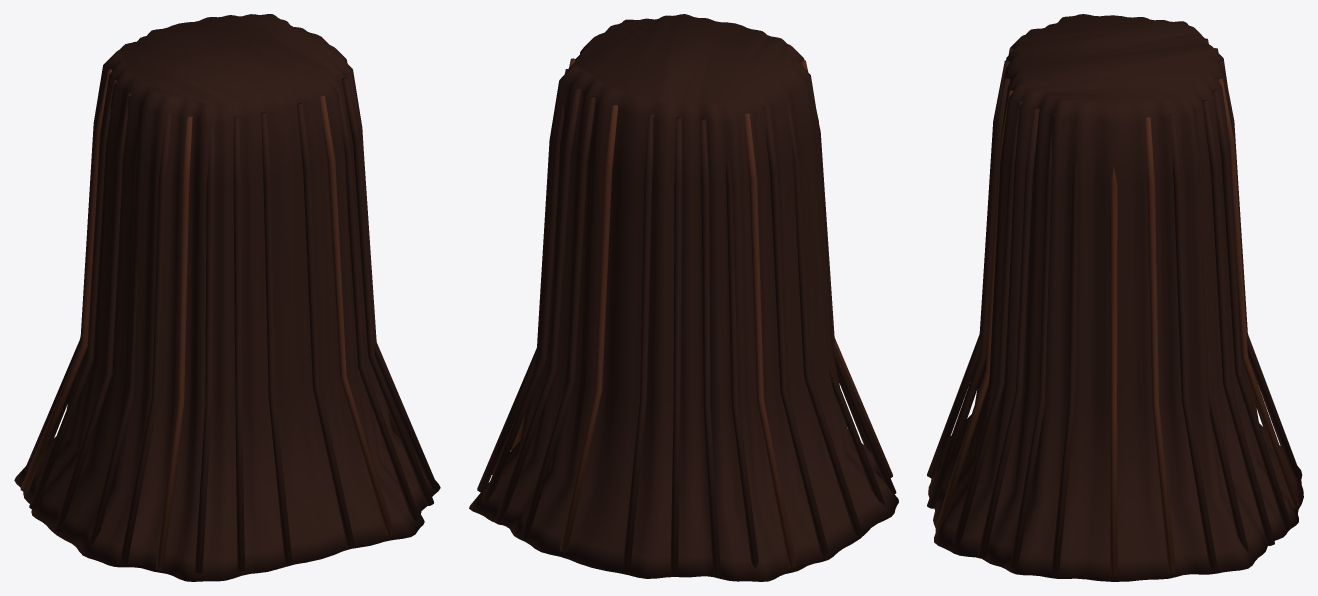
The model's file is cacao-tower.glb.
3 renders of one model, left to right at view 1: azimuth 30°, elevation 25°; view 2: azimuth 150°, elevation 25°; view 3: azimuth 270°, elevation 25°, orthographic.
Visible parts, largest first — view 1: Tall fluted chocolate tower, Tall chocolate drip.010, Tall chocolate drip.011, Tall chocolate drip.006, Tall chocolate drip.008, Tall chocolate drip.005, Tall chocolate drip.007, Tall chocolate drip.003, Tall chocolate drip.009, Tall chocolate drip.004, Tall chocolate drip.013, Tall chocolate drip.014 (+3 smaller); view 2: Tall fluted chocolate tower, Tall chocolate drip.015, Tall chocolate drip.017, Tall chocolate drip.020, Tall chocolate drip.021, Tall chocolate drip.014, Tall chocolate drip.022, Tall chocolate drip.018, Tall chocolate drip.019, Tall chocolate drip.013, Tall chocolate drip.023, Tall chocolate drip.016 (+4 smaller); view 3: Tall fluted chocolate tower, Tall chocolate drip.003, Tall chocolate drip.025, Tall chocolate drip.022, Tall chocolate drip.021, Tall chocolate drip.024, Tall chocolate drip.006, Tall chocolate drip, Tall chocolate drip.004, Tall chocolate drip.001, Tall chocolate drip.002, Tall chocolate drip.020 (+4 smaller).
Part boxes in pixels (x1,y1,x2,y2): Tall fluted chocolate tower: (14, 14, 440, 581); Tall chocolate drip.010: (155, 116, 192, 570); Tall chocolate drip.011: (119, 112, 171, 563); Tall chocolate drip.006: (297, 103, 355, 548); Tall chocolate drip.008: (233, 116, 244, 570); Tall chocolate drip.005: (319, 95, 393, 535); Tall chocolate drip.007: (261, 112, 292, 563); Tall chocolate drip.003: (342, 77, 433, 505); Tall chocolate drip.009: (195, 118, 214, 573); Tall chocolate drip.004: (336, 87, 419, 521); Tall chocolate drip.013: (54, 92, 131, 531); Tall chocolate drip.014: (29, 79, 116, 509); Tall fluted chocolate tower: (469, 14, 898, 581); Tall chocolate drip.015: (744, 113, 796, 567); Tall chocolate drip.017: (700, 118, 720, 576); Tall chocolate drip.020: (559, 104, 618, 552); Tall chocolate drip.021: (520, 96, 595, 539); Tall chocolate drip.014: (762, 106, 828, 555); Tall chocolate drip.022: (494, 88, 581, 524); Tall chocolate drip.018: (670, 117, 681, 574); Tall chocolate drip.019: (623, 113, 654, 567); Tall chocolate drip.013: (784, 94, 862, 535); Tall chocolate drip.023: (481, 104, 563, 503); Tall chocolate drip.016: (726, 160, 758, 568); Tall fluted chocolate tower: (928, 14, 1303, 581); Tall chocolate drip.003: (977, 107, 1039, 558); Tall chocolate drip.025: (1145, 116, 1176, 573); Tall chocolate drip.022: (1202, 100, 1274, 545); Tall chocolate drip.021: (1212, 90, 1291, 529); Tall chocolate drip.024: (1169, 113, 1217, 568); Tall chocolate drip.006: (927, 78, 1010, 508); Tall chocolate drip: (1110, 166, 1117, 575); Tall chocolate drip.004: (952, 100, 1022, 545); Tall chocolate drip.001: (1051, 163, 1077, 573); Tall chocolate drip.002: (1010, 113, 1054, 567); Tall chocolate drip.020: (1217, 78, 1300, 508).
Bounding box in the file's own units: 6.9 × 8.2 × 6.39.
